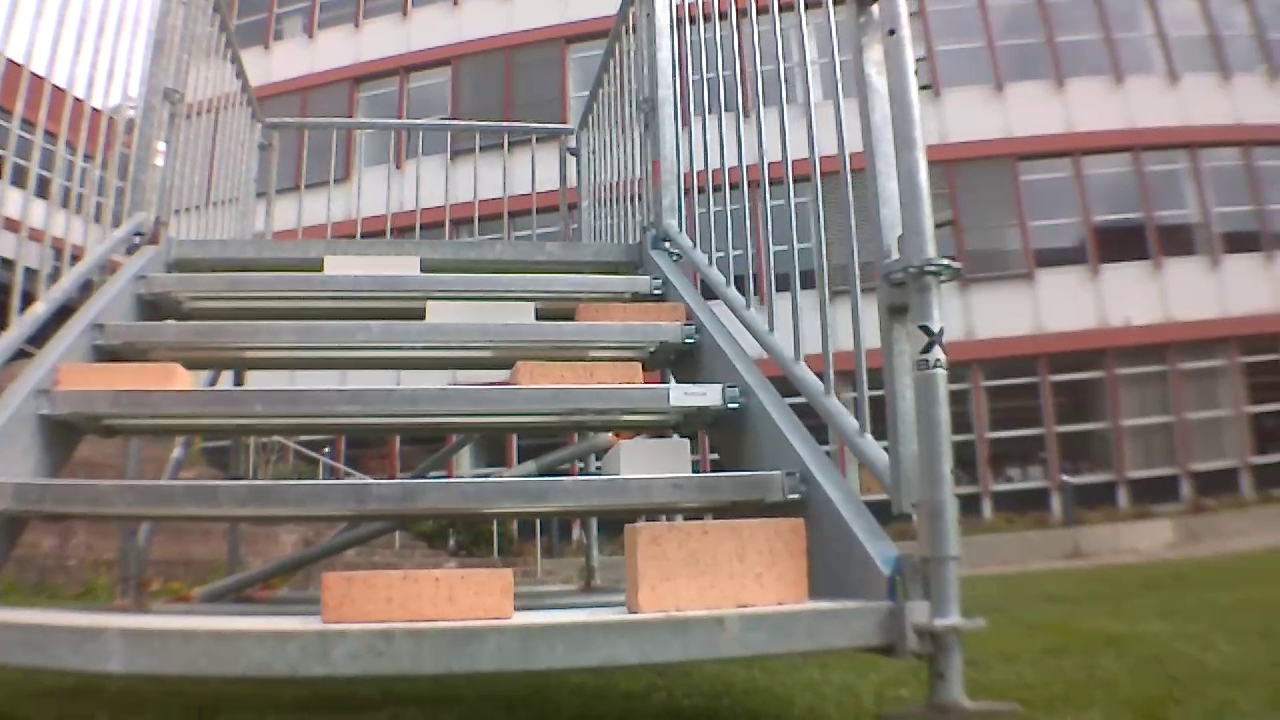brick: (621, 522, 795, 606), (307, 566, 521, 626), (54, 356, 197, 391), (598, 430, 691, 480), (422, 295, 539, 328), (578, 297, 689, 326), (513, 364, 646, 387), (314, 252, 424, 277)
edge: (0, 602, 908, 676), (0, 468, 817, 523), (23, 383, 750, 425), (79, 324, 707, 349), (154, 240, 646, 259), (133, 270, 671, 285)
stairs: (0, 0, 969, 703)
steps: (0, 229, 905, 674)
